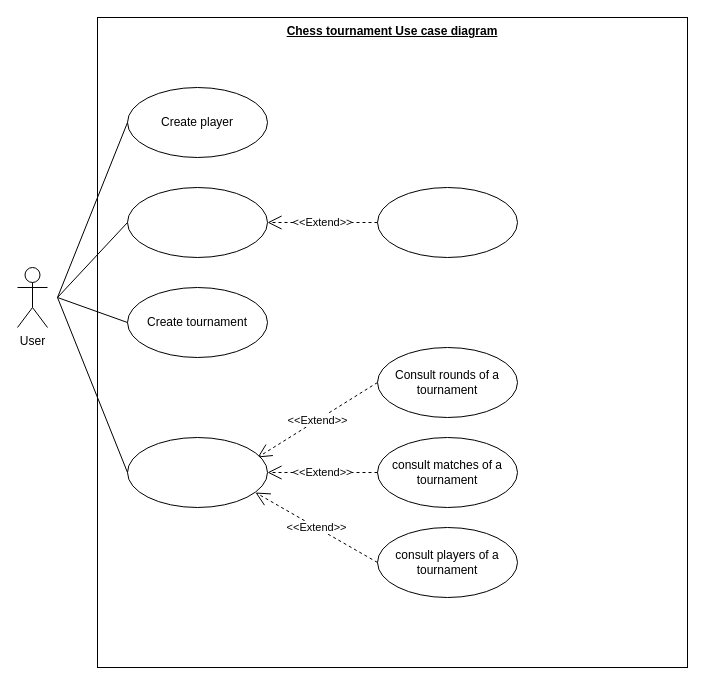
The diagram is 705 pixels wide and 685 high, and some of its shapes have lost their labels. Each missing label, with the centre of its shape:
"consult all players in database" belongs at (197,222).
"Consult passed tournaments" belongs at (197,472).
"Modify player ranking" belongs at (447,222).
